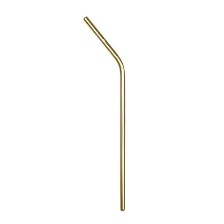drinking_straw: (78, 13, 132, 214)
